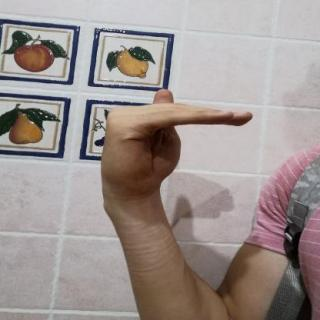KHAA: (87, 80, 268, 218)
